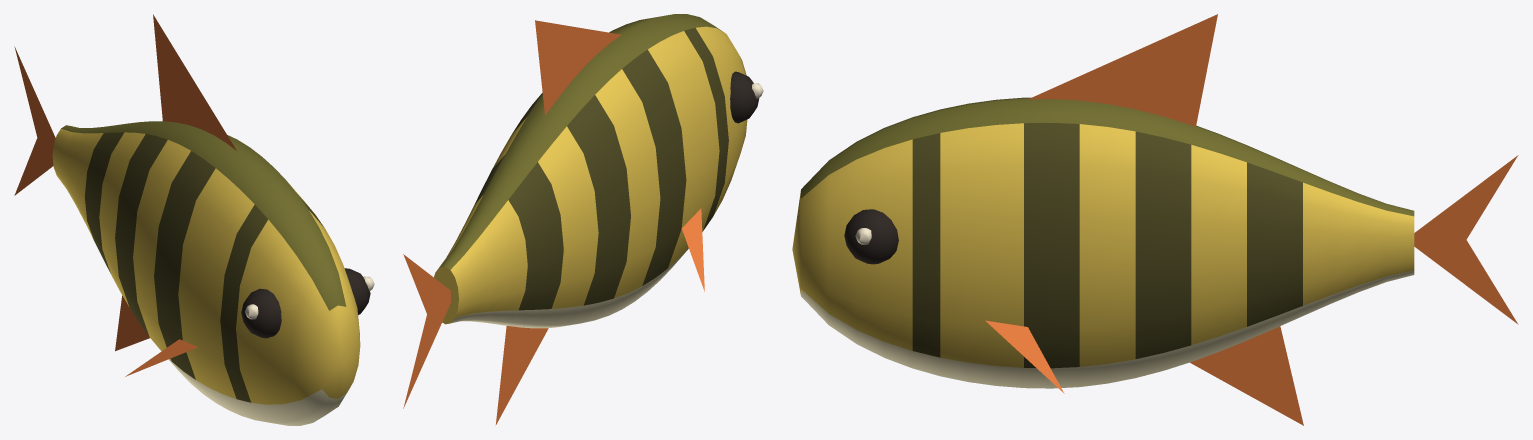
The model's file is yellow_perch.fbx.
3 renders of one model, left to right at view 1: azimuth 30°, elevation 25°; view 2: azimuth 150°, elevation 25°; view 3: azimuth 270°, elevation 25°, orthographic. The views are drawn at different scales.
Visible parts, largest first — view 1: Fish_yellow_perch_EXP; view 2: Fish_yellow_perch_EXP; view 3: Fish_yellow_perch_EXP.
Part boxes in pixels (x1,y1,x2,y2): Fish_yellow_perch_EXP: (14, 14, 374, 425); Fish_yellow_perch_EXP: (403, 14, 763, 425); Fish_yellow_perch_EXP: (792, 14, 1518, 425).
Size of the model in its own units: 0.1396 by 0.252 by 0.4026.
